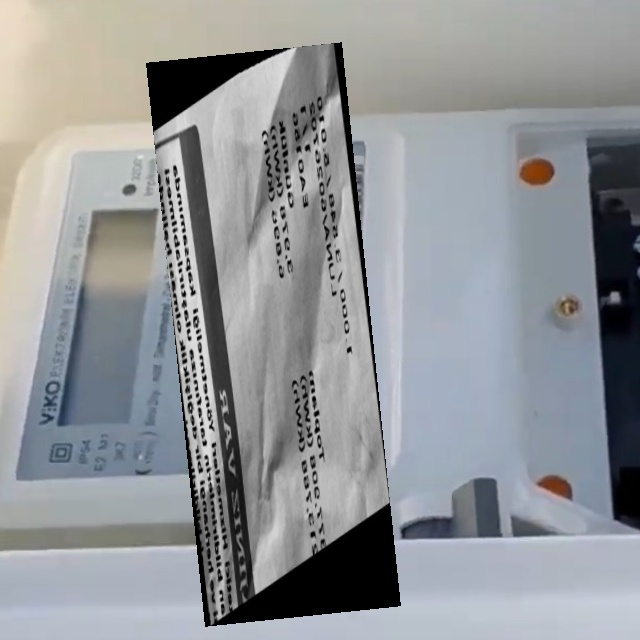electricity-bill: (146, 42, 401, 626)
